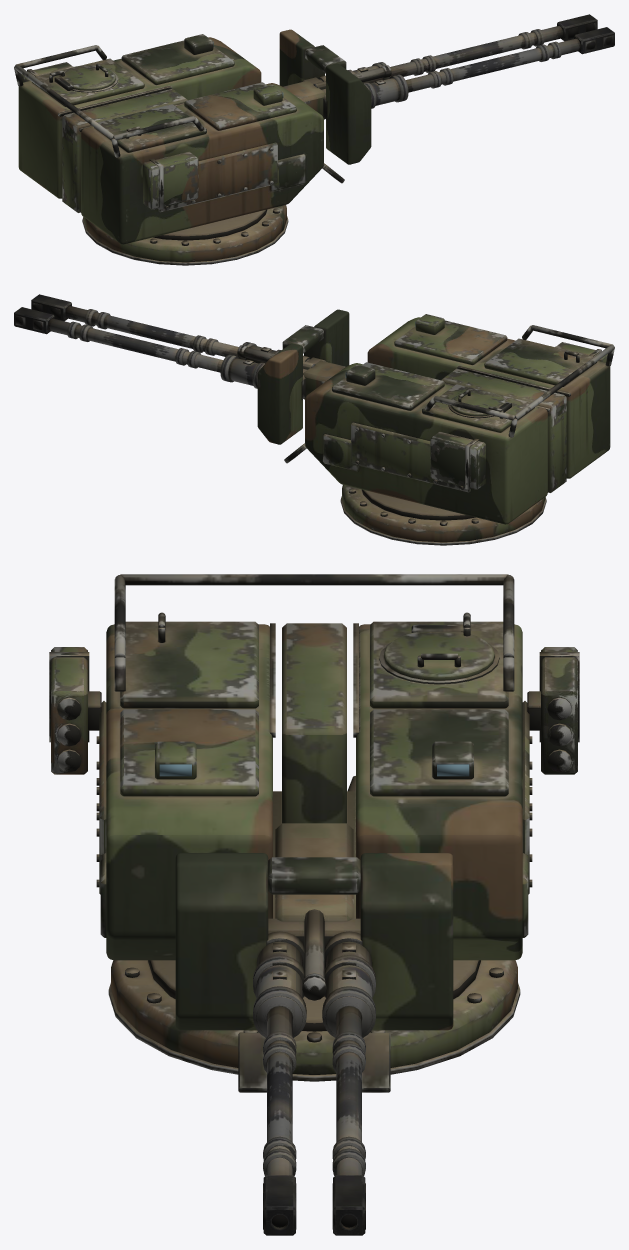
Rendered from turret_kit_t2_forest.glb.
3 views of the same model, one above another, from view 1: azimuth 30°, elevation 25°; view 2: azimuth 150°, elevation 25°; view 3: azimuth 270°, elevation 25° (orthographic). The views are drawn at different scales.
Parts seen in each view (by area): view 1: turret_twin_t2, guns, pods; view 2: turret_twin_t2, guns, pods; view 3: turret_twin_t2, guns, pods.
Boxes of the visible parts, box(x1,y1,x2,y2) form: turret_twin_t2: box(14, 29, 371, 265); guns: box(283, 14, 614, 119); pods: box(21, 62, 198, 209); turret_twin_t2: box(257, 309, 614, 545); guns: box(14, 294, 345, 399); pods: box(430, 342, 607, 489); turret_twin_t2: box(96, 574, 532, 1092); guns: box(253, 823, 375, 1235); pods: box(49, 647, 579, 774).
Bounding box in the file's own units: 2.7 × 0.722 × 1.15.
Materials: 4 (3 with a texture image).
